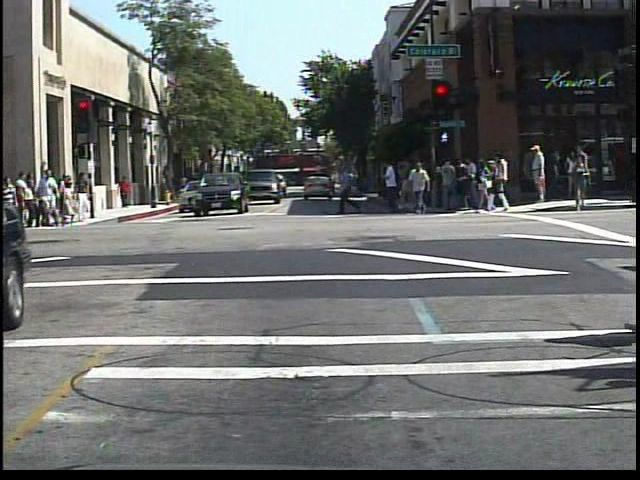person: (525, 145, 553, 207), (35, 167, 61, 232), (0, 170, 21, 224), (117, 172, 135, 210)
